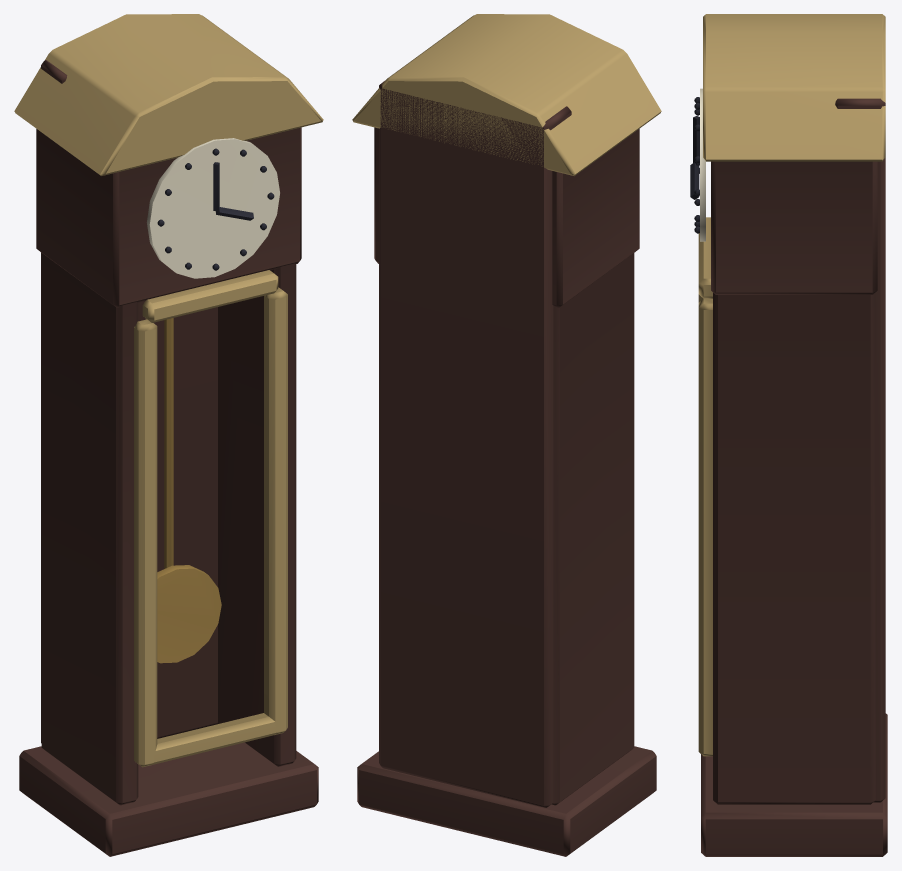
The model's file is clock_grandfather.glb.
3 views of the same model, side by side, from view 1: azimuth 30°, elevation 25°; view 2: azimuth 150°, elevation 25°; view 3: azimuth 270°, elevation 25° (orthographic). The views are drawn at different scales.
Visible parts, largest first — view 1: clock_grandfather, pendulum; view 2: clock_grandfather; view 3: clock_grandfather.
Boxes of the visible parts, x1,y1,x2,y2 form: clock_grandfather: [14, 14, 323, 856]; pendulum: [157, 318, 221, 663]; clock_grandfather: [352, 14, 661, 856]; clock_grandfather: [690, 14, 887, 856].
Bounding box in the file's own units: 0.6505 × 2.1 × 0.486.
